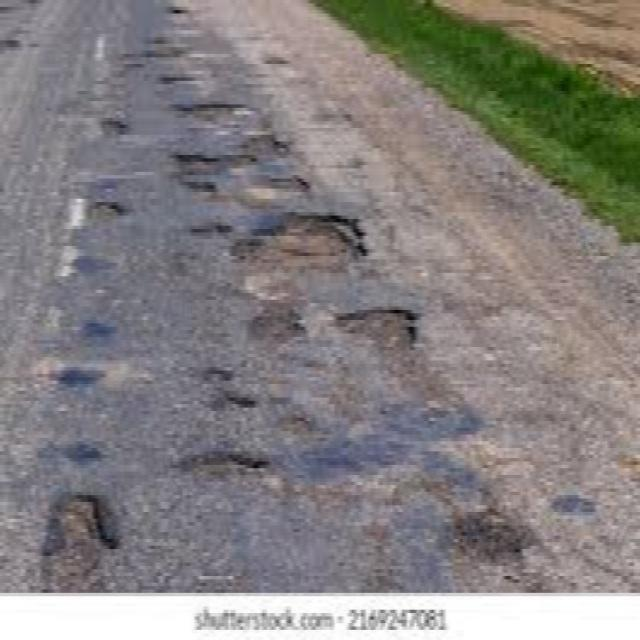Pothole: (226, 211, 376, 277), (35, 481, 121, 565), (330, 296, 424, 359), (159, 91, 273, 136), (179, 442, 266, 492), (168, 148, 248, 198), (240, 308, 320, 354), (256, 170, 310, 200), (114, 46, 198, 65), (180, 218, 226, 252), (95, 195, 135, 233), (236, 132, 291, 159), (212, 390, 266, 416), (99, 116, 137, 149), (147, 70, 208, 90), (200, 361, 240, 380), (160, 2, 196, 19)
